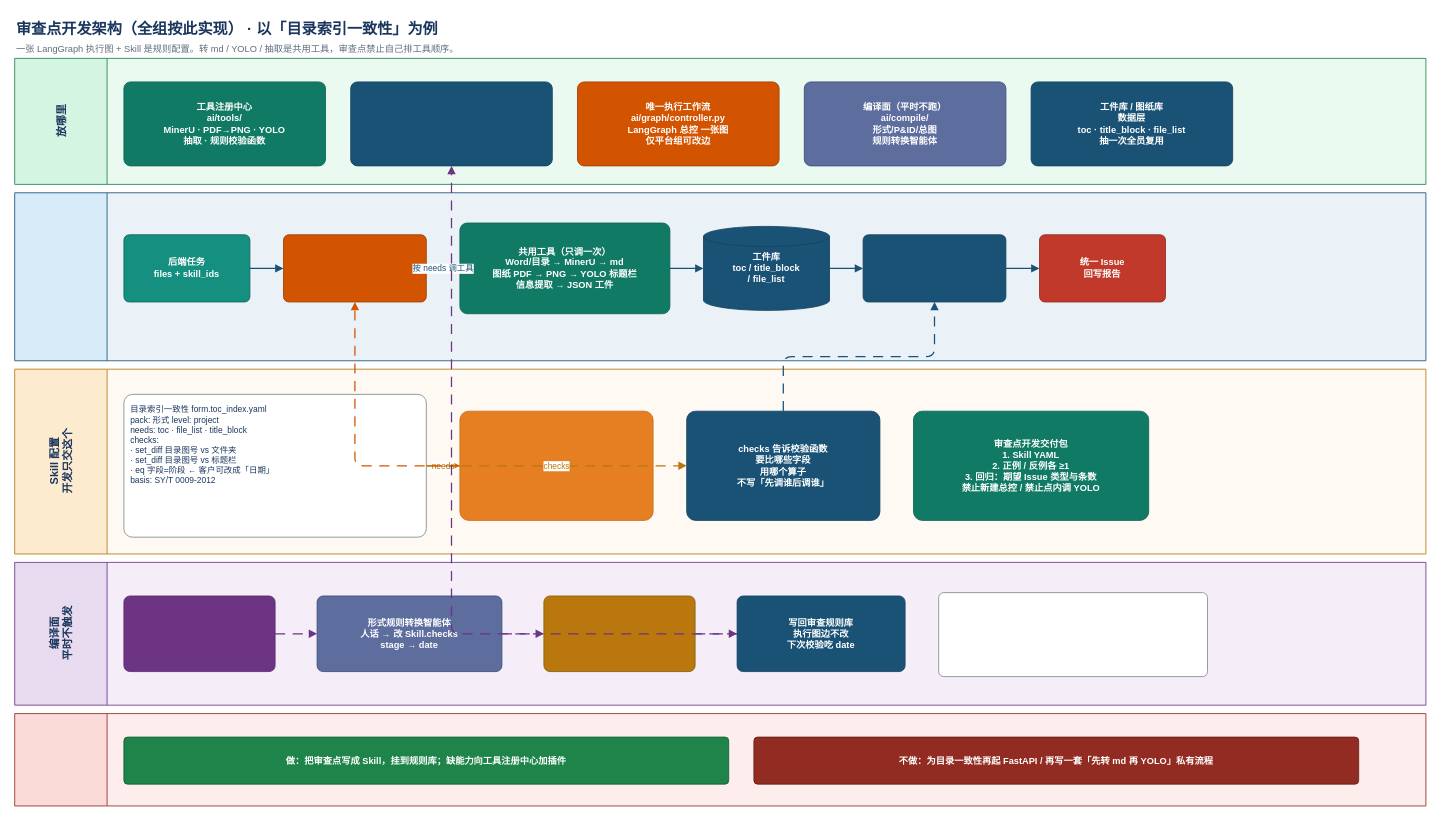
Image size: 1441x821. Some labels were removed from this diagram. The shapes that lost their labels are listed below. From the top down, each one's box as (x1, y1, x2, y2) in pixels, then its label:
(350, 81, 552, 166): 审查规则库 = Skill ai/rules/ 每条审查点一份 YAML 目录一致性挂在这里
(283, 234, 426, 302): 总控智能体 invoke(task) 读 Skill.needs 并集
(14, 192, 1426, 361): 执行面 每套图都跑
(862, 234, 1006, 302): 规则校验函数 读 Skill.checks set_diff / eq / seq 大模型不比对
(459, 410, 653, 520): needs 告诉总控 缺 toc → 调 MinerU 缺 title_block → 调 YOLO+抽取 标题栏只抽一次 三个形式点共用
(123, 595, 275, 672): 客户改规则 「不校验阶段了 改校验日期」
(543, 595, 695, 672): 人确认 + 回归 用例还过才生效
(938, 592, 1208, 677): needs 没变：YOLO/MinerU 不动 needs 变了：总控自动多抽/少抽 都不是每人新写一条工作流
(14, 713, 1426, 806): 开发契约
